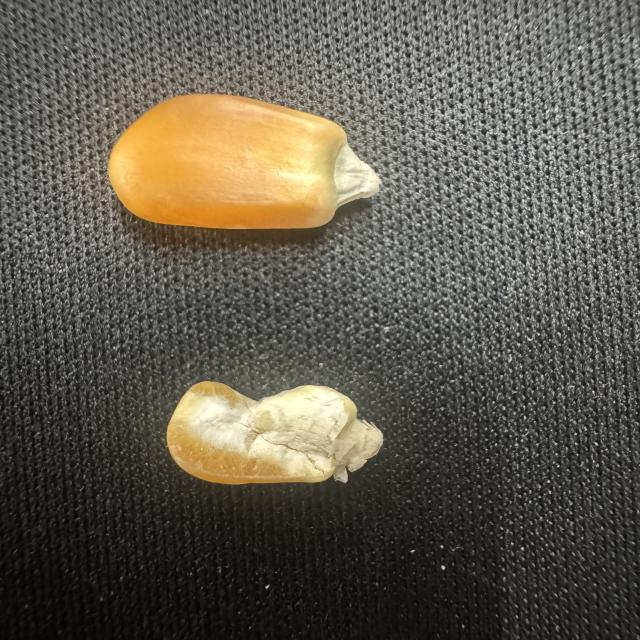Bad-Seed: (150, 370, 390, 492)
Good-Seed: (100, 83, 387, 244)
